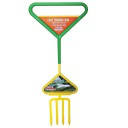Fork: (22, 1, 93, 128)
